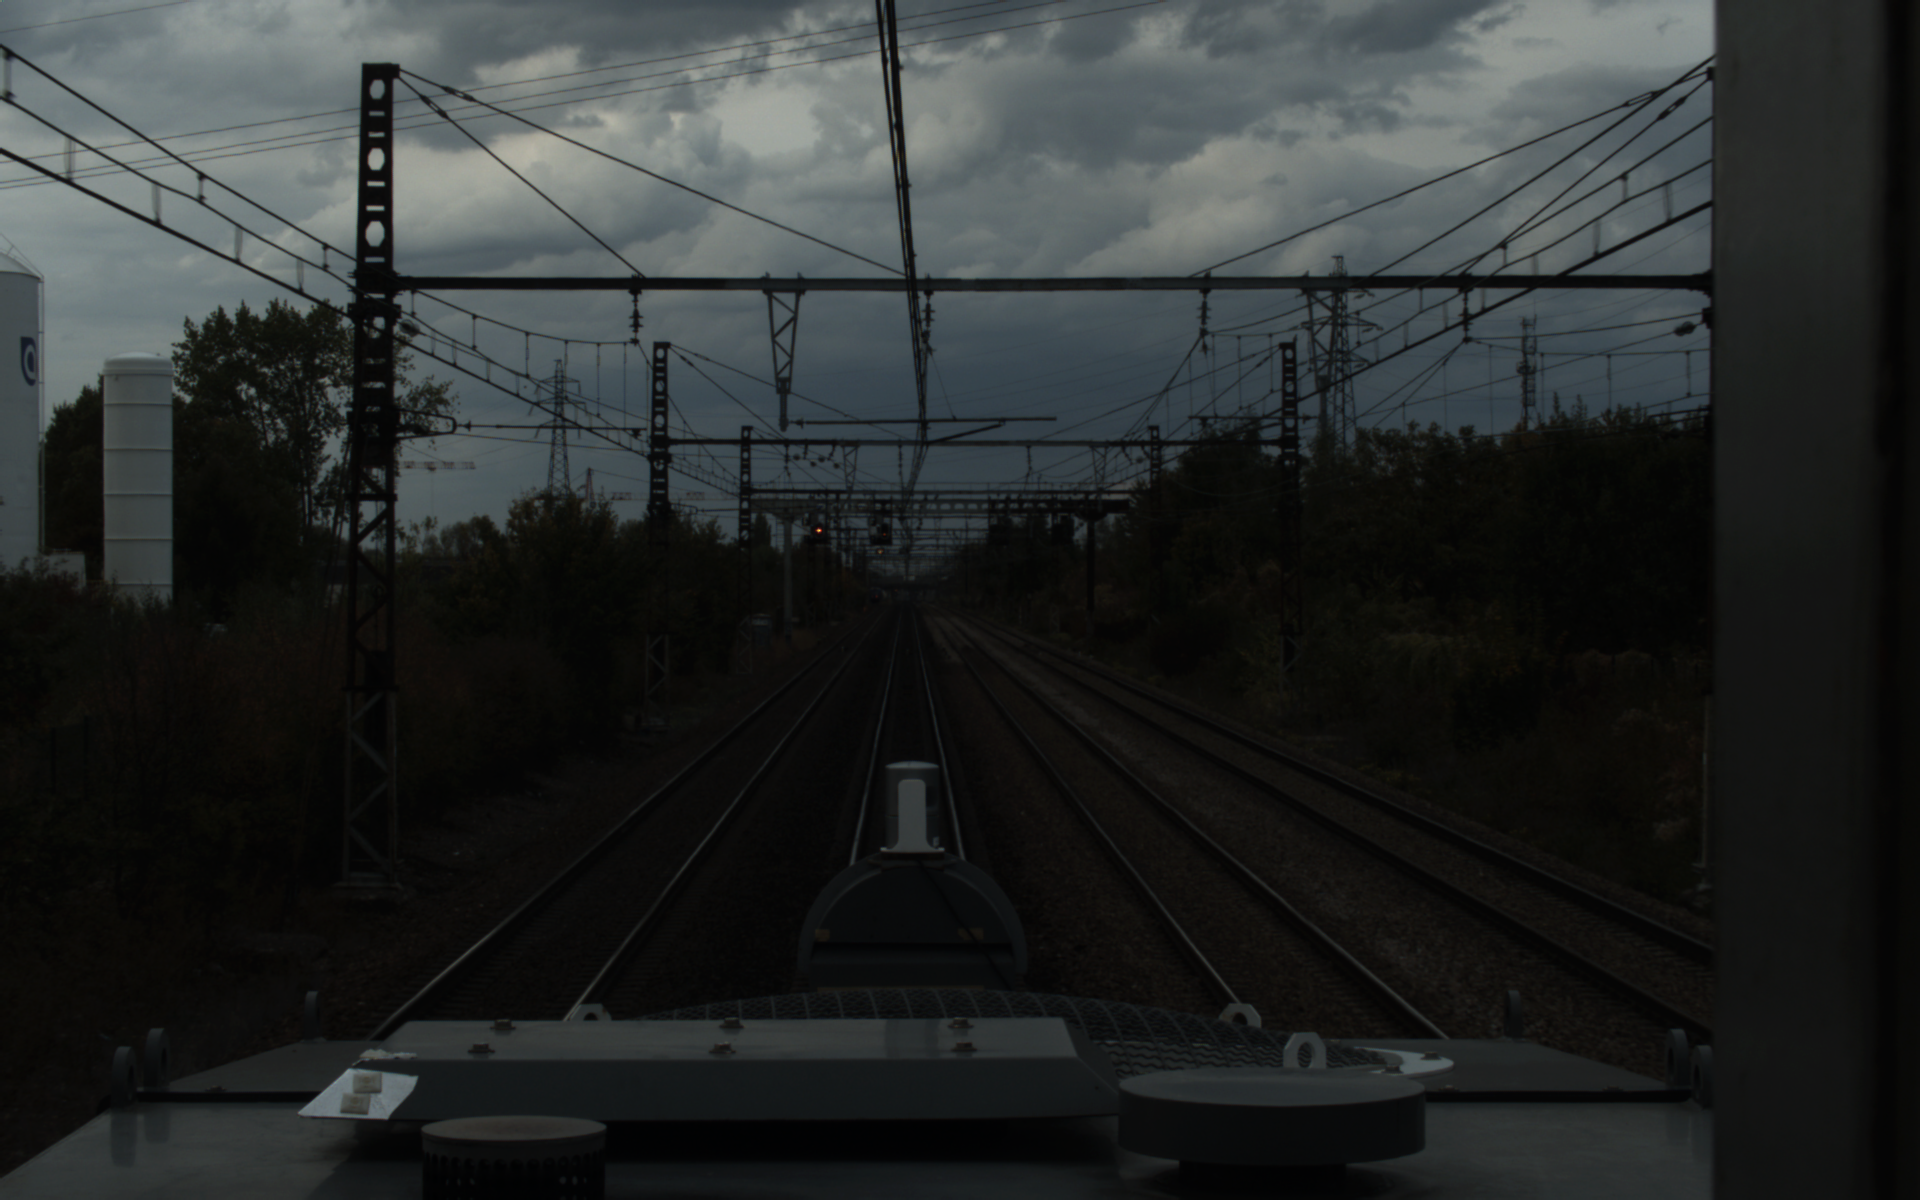Blinking: (876, 520, 890, 539)
Fixed: (811, 520, 825, 541)
